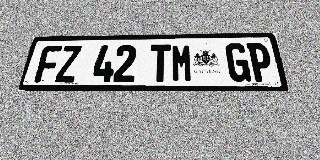2: (113, 45, 137, 82)
4: (92, 45, 116, 82)
F: (34, 46, 62, 83)
G: (225, 43, 252, 82)
M: (171, 44, 193, 82)
P: (246, 43, 275, 82)
T: (149, 44, 171, 82)
Z: (55, 45, 82, 83)
